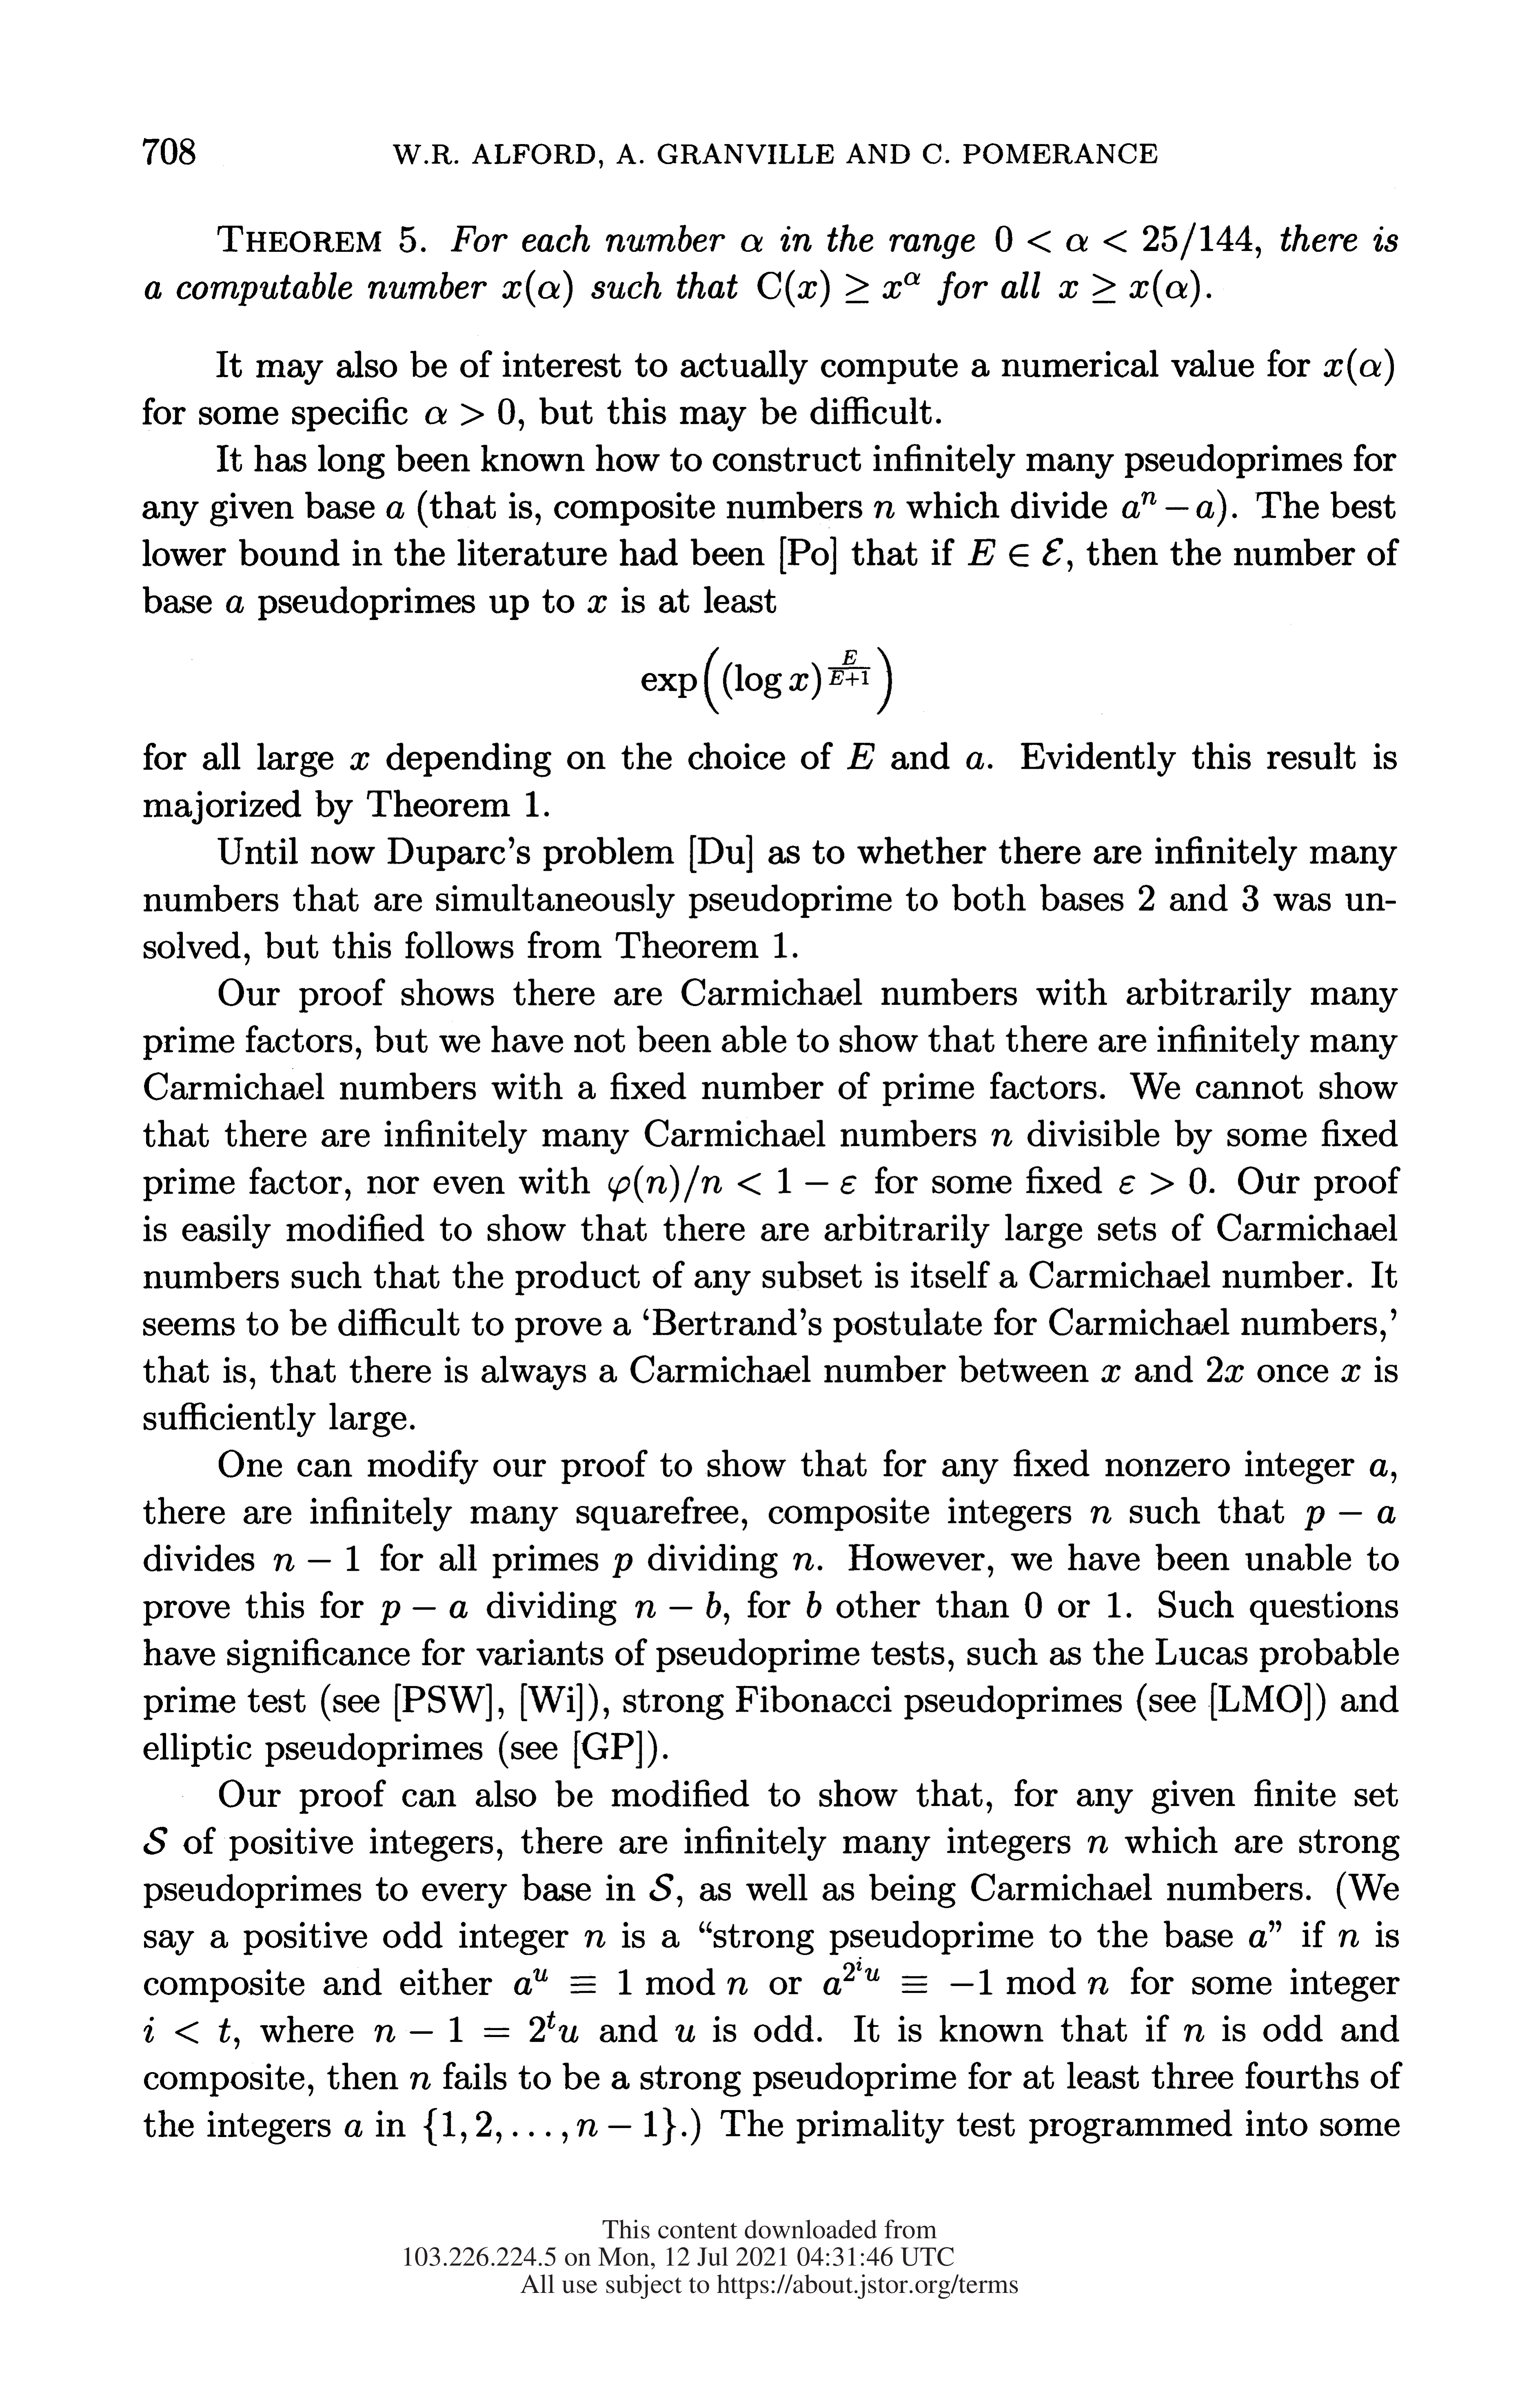maths: (642, 648, 891, 714), (423, 2108, 700, 2146), (824, 1957, 1109, 1994), (996, 223, 1261, 260), (609, 1165, 856, 1202), (375, 2011, 579, 2043), (514, 1967, 747, 1994), (758, 270, 919, 307), (1059, 269, 1205, 307), (424, 398, 523, 430), (968, 537, 1063, 567), (1324, 348, 1394, 386), (502, 270, 572, 307), (1119, 1167, 1207, 1195), (1123, 491, 1214, 518), (635, 1592, 721, 1618), (144, 2017, 230, 2043), (1305, 1506, 1394, 1530), (274, 1546, 360, 1571), (381, 1601, 467, 1625), (1207, 1357, 1244, 1381), (847, 742, 875, 769), (649, 1873, 674, 1901), (144, 1827, 167, 1853), (612, 1553, 631, 1578), (1024, 1592, 1042, 1618), (740, 233, 761, 251), (873, 500, 895, 518), (991, 1129, 1012, 1146), (1091, 1506, 1112, 1523), (793, 1553, 814, 1571), (807, 1592, 821, 1618), (584, 1931, 605, 1948), (588, 595, 607, 613), (1342, 1364, 1361, 1381), (1087, 1836, 1107, 1853), (675, 2024, 695, 2041), (1184, 2024, 1203, 2041), (1338, 1931, 1359, 1946), (226, 595, 244, 613), (351, 753, 368, 770), (966, 751, 984, 769), (1370, 1458, 1387, 1476), (1249, 1931, 1266, 1948), (1102, 1365, 1121, 1381), (410, 2073, 430, 2089), (386, 502, 403, 518), (346, 2120, 361, 2136)
